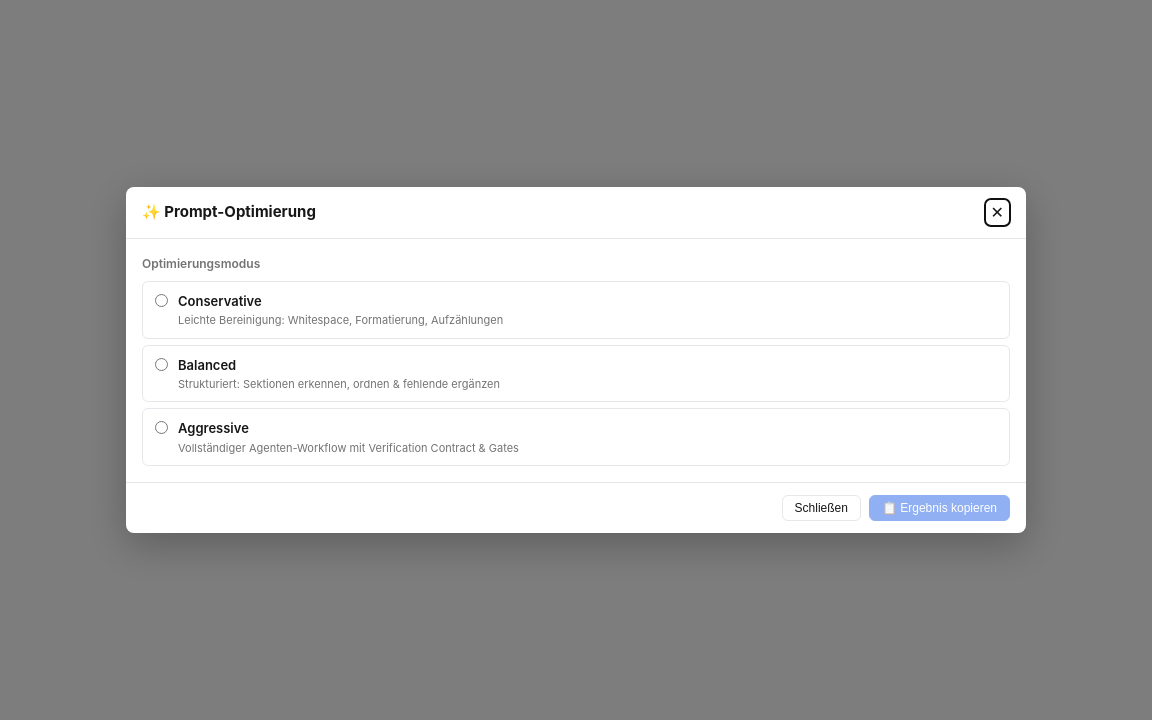
Test: OptimizationPanel — Apply (Übernehmen) › shows apply button when a result exists
Click the 1st radio button. click: (162, 300)
box: [155,294,168,307]
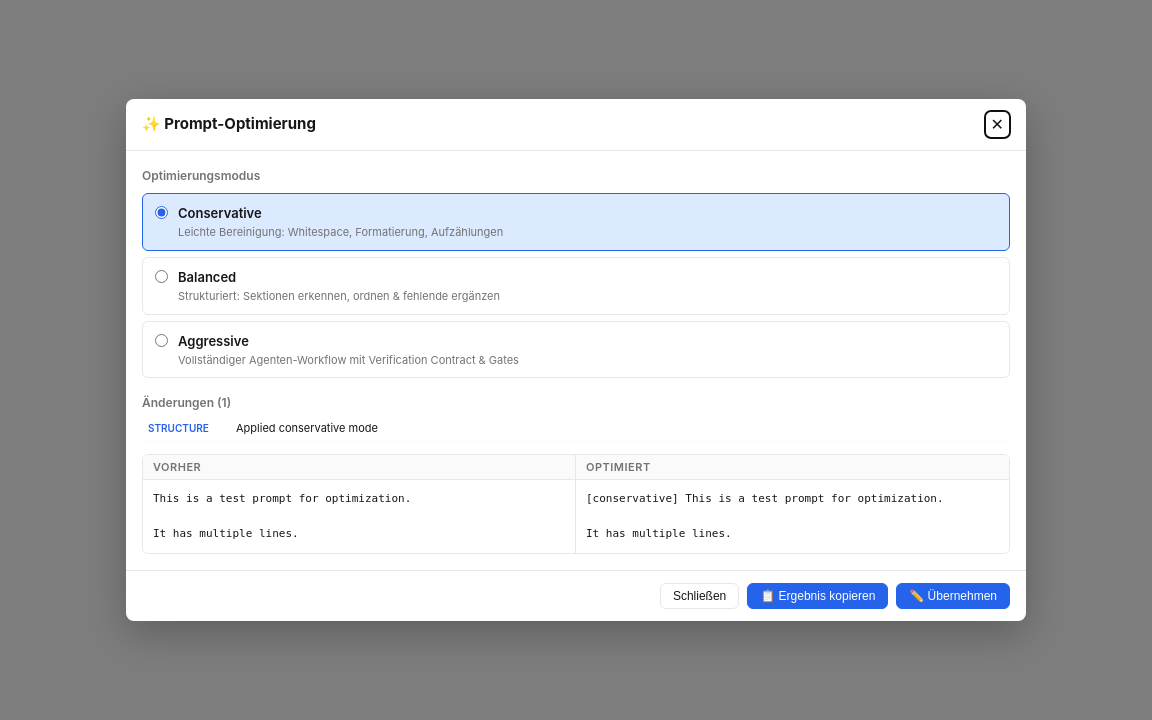
Expected: the button "✏️ Übernehmen" is enabled, [896,583,1010,609]
